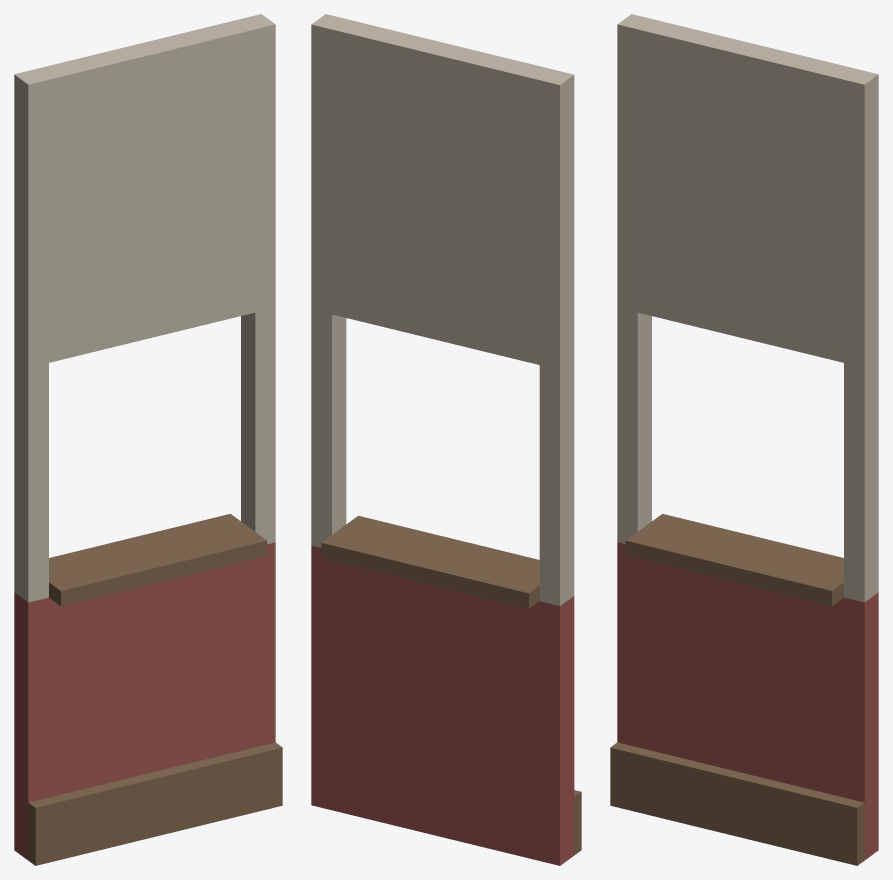
The model's file is Mesh_WallBaseboard2Colors_D2.fbx.
3 views of the same model, side by side, from view 1: azimuth 30°, elevation 25°; view 2: azimuth 150°, elevation 25°; view 3: azimuth 330°, elevation 25° (orthographic).
Visible parts, largest first — view 1: Mesh_WallBaseboard2Colors_D2; view 2: Mesh_WallBaseboard2Colors_D2; view 3: Mesh_WallBaseboard2Colors_D2.
Part boxes in pixels (x1,y1,x2,y2): Mesh_WallBaseboard2Colors_D2: [14, 14, 282, 865]; Mesh_WallBaseboard2Colors_D2: [311, 14, 581, 865]; Mesh_WallBaseboard2Colors_D2: [610, 14, 878, 865].
Bounding box in the file's own units: 1 × 3 × 0.2574.
